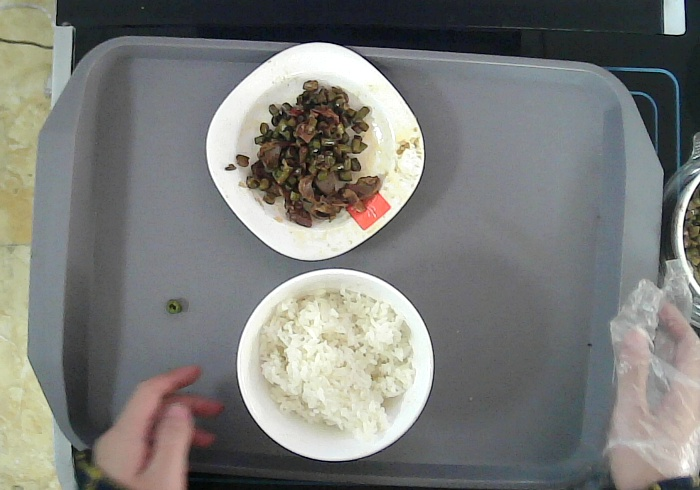SHKJ-Bai_Se_Si_Fang_Cai_Die: (205, 41, 427, 261)
SHKJ-Fan_Wan: (235, 266, 436, 462)
